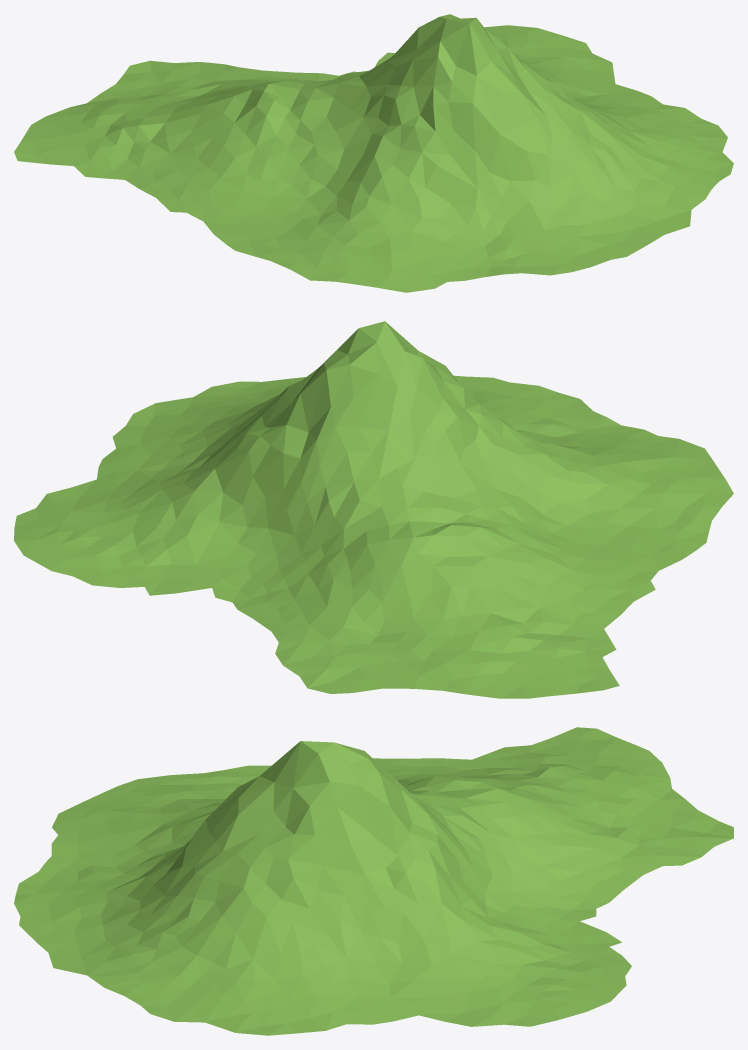
File: MT_Mountain_L_a_37_LOD.fbx
3 renders of one model, top to bottom at view 1: azimuth 30°, elevation 25°; view 2: azimuth 150°, elevation 25°; view 3: azimuth 270°, elevation 25°, orthographic. The views are drawn at different scales.
Visible parts, largest first — view 1: MT_Mountain_L_a_37_LOD0; view 2: MT_Mountain_L_a_37_LOD0; view 3: MT_Mountain_L_a_37_LOD0.
Part boxes in pixels (x1,y1,x2,y2): MT_Mountain_L_a_37_LOD0: (14,14,733,292); MT_Mountain_L_a_37_LOD0: (14,321,733,698); MT_Mountain_L_a_37_LOD0: (14,727,733,1035).
Size of what is drawn, in the model's own units: 8666 by 2202 by 8575.
